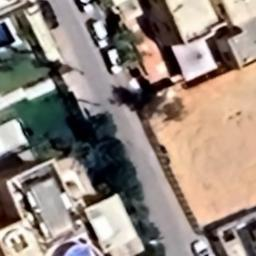SUV: (86, 17, 110, 49)
sedan: (189, 235, 214, 256), (73, 0, 99, 13)
van: (103, 50, 127, 76)
